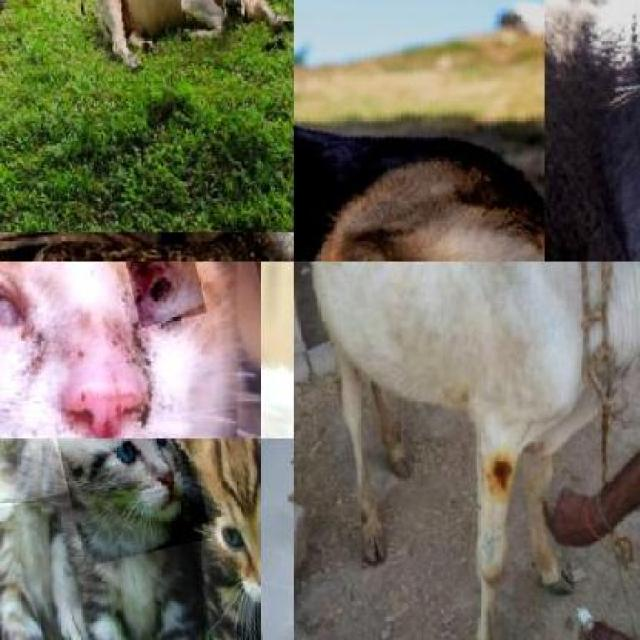cat: (0, 262, 260, 438), (544, 0, 640, 261), (29, 439, 212, 566), (163, 438, 260, 636)
cow: (294, 262, 640, 600), (81, 0, 293, 72)
dog: (294, 0, 544, 262)
injured: (119, 262, 206, 328), (479, 438, 535, 498)
